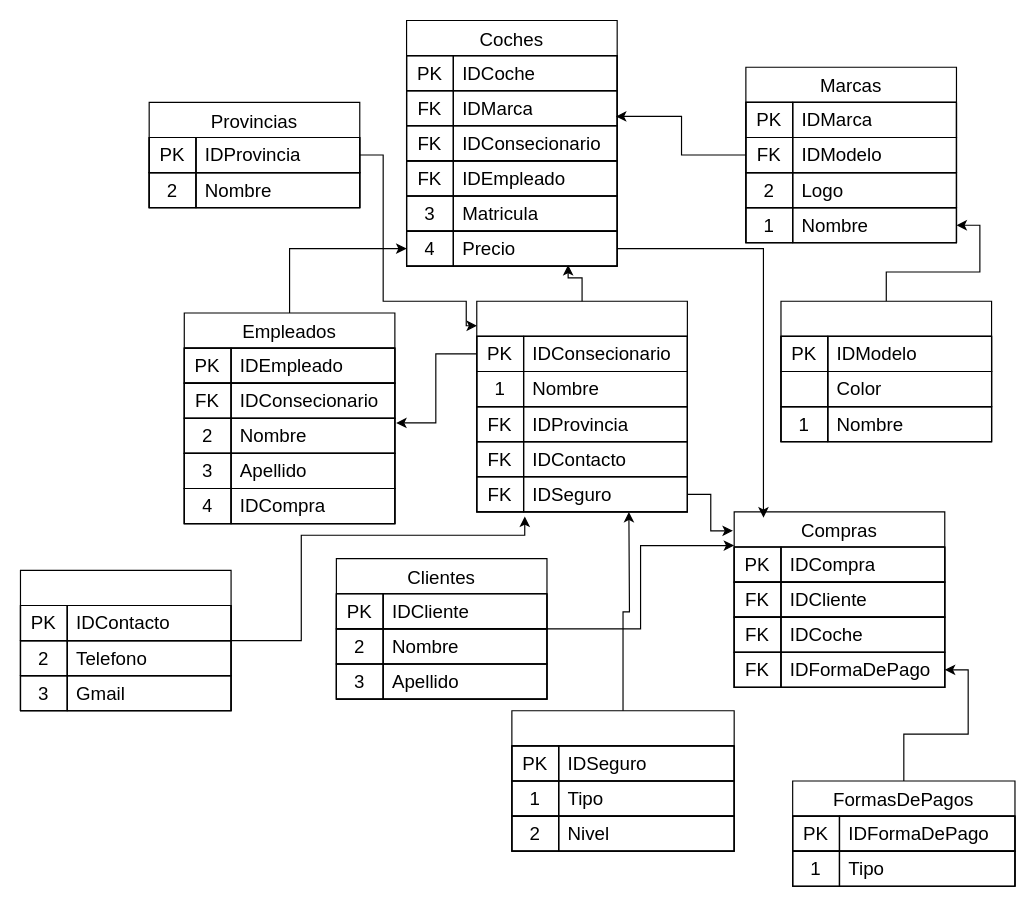
Image size: 1035x907. Some labels were removed from this diagram. The shapes that lost their labels are listed below. From the top down, each one's box as (x1, y1, x2, y2) in pixels, then its label:
(780, 300, 992, 442): Modelos
(476, 300, 687, 512): Consecionarios
(19, 569, 231, 711): Contactos
(511, 710, 734, 851): Seguros
